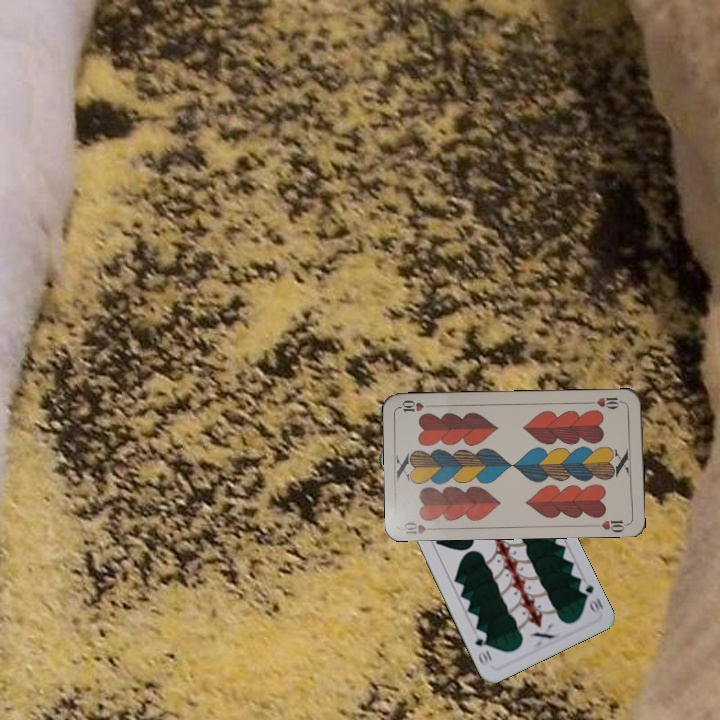G10: (574, 576, 606, 615)
H10: (586, 393, 626, 412), (400, 517, 440, 536)
